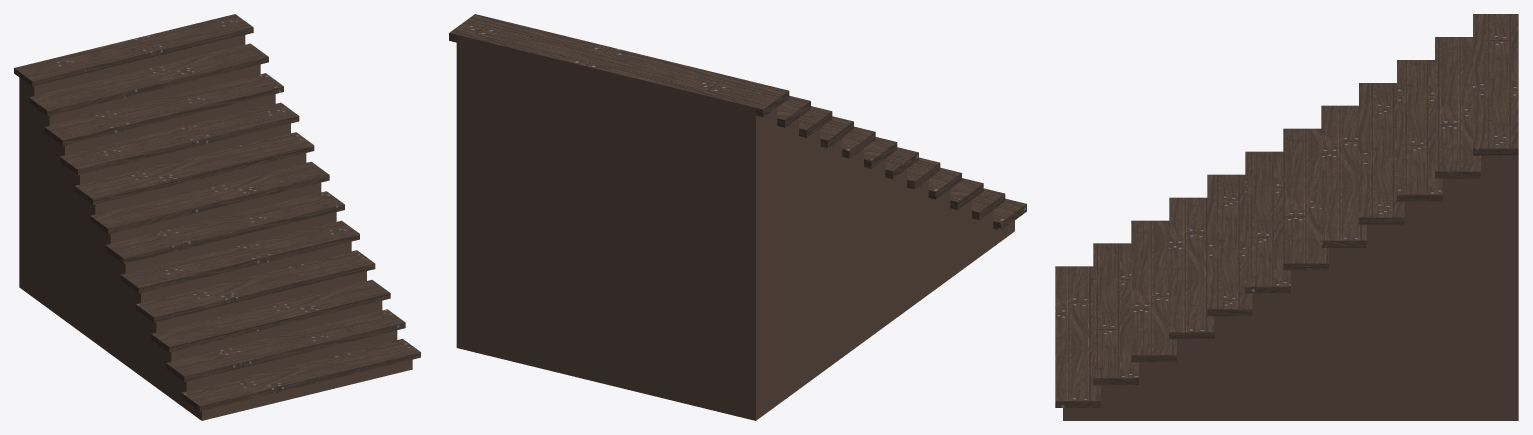
The model's file is MainHall_Stairs.FBX.
3 views of the same model, side by side, from view 1: azimuth 30°, elevation 25°; view 2: azimuth 150°, elevation 25°; view 3: azimuth 270°, elevation 25° (orthographic). The views are drawn at different scales.
Parts seen in each view (by area): view 1: MainHall_Stairs; view 2: MainHall_Stairs; view 3: MainHall_Stairs.
Part boxes in pixels (left/top/right/bottom): MainHall_Stairs: left=14, top=14, right=420, bottom=420; MainHall_Stairs: left=449, top=14, right=1026, bottom=420; MainHall_Stairs: left=1055, top=14, right=1518, bottom=420.
Size of the model in its own units: 4.2 by 4 by 6.1.
